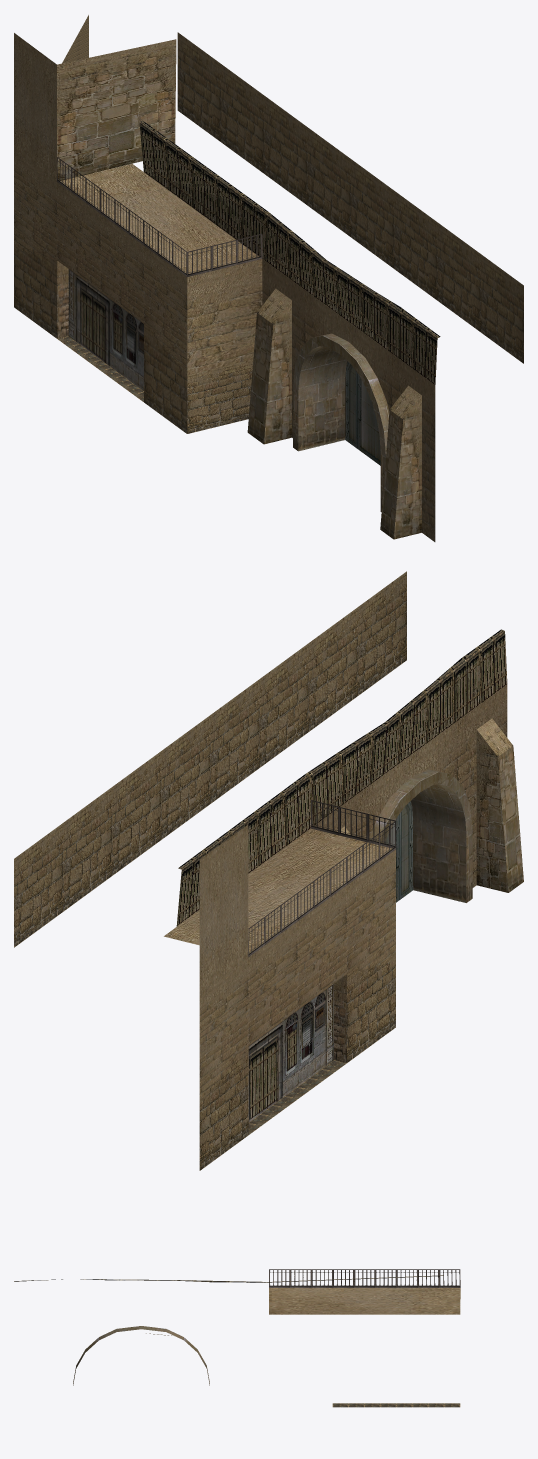
The model's file is M7Z1_CityWall2.glb.
The picture shows the model from 3 angles, top to bottom: view 1: azimuth 30°, elevation 25°; view 2: azimuth 150°, elevation 25°; view 3: azimuth 270°, elevation 25°; orthographic projection. The views are drawn at different scales.
Parts seen in each view (by area): view 1: M7Z1_CITYWALL2; view 2: M7Z1_CITYWALL2; view 3: M7Z1_CITYWALL2.
Part boxes in pixels (x1=…): M7Z1_CITYWALL2: x1=14, y1=15, x2=523, y2=541; M7Z1_CITYWALL2: x1=14, y1=571, x2=523, y2=1170; M7Z1_CITYWALL2: x1=14, y1=1269, x2=460, y2=1407.
Bounding box in the file's own units: 8.72 × 15 × 32.
11 materials, 11 textured.
